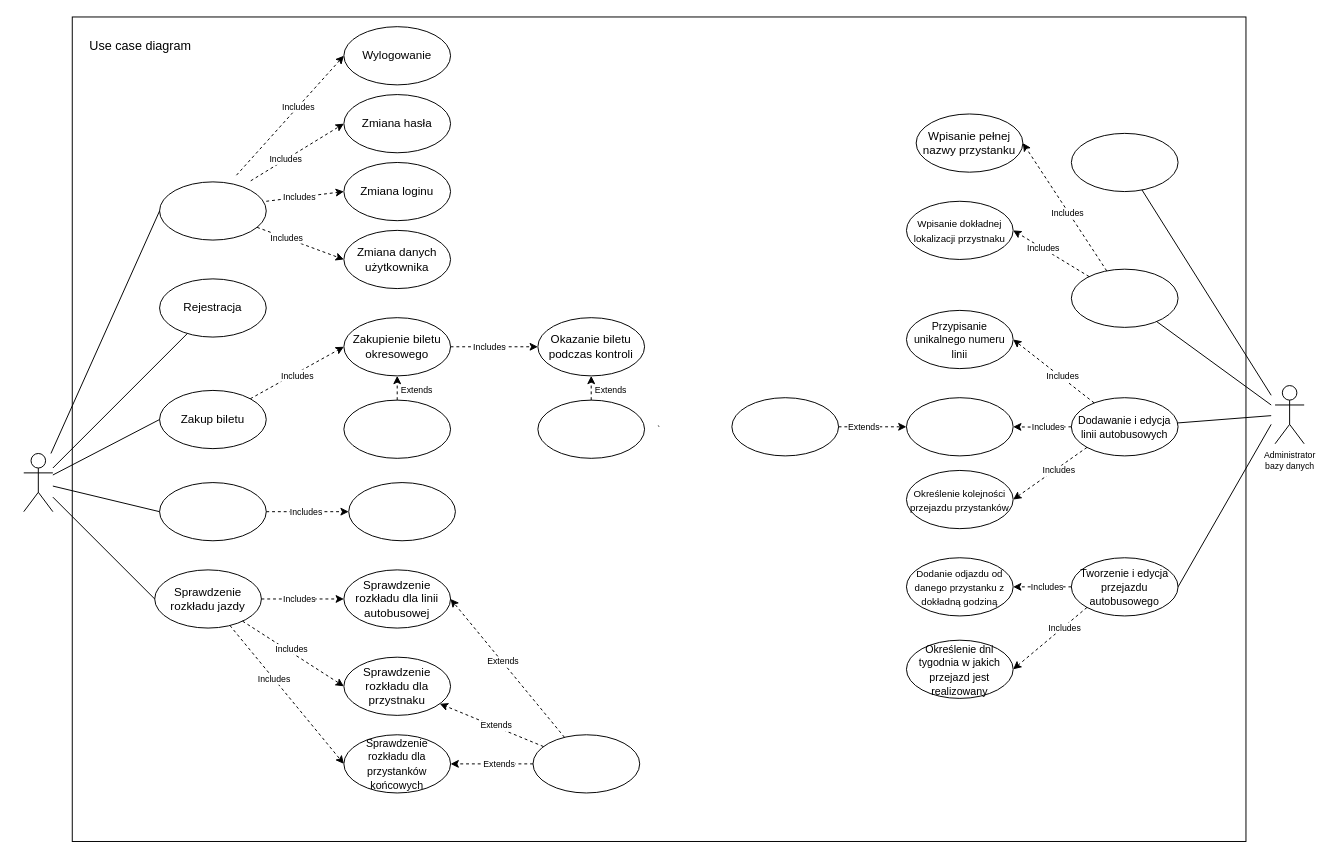
Image size: 1332x858. Some labels were removed from this diagram. The box of each missing label's shape, as (x1, y1, x2, y2) in pixels:
Dodawanie i edycja przystanków: (1070, 268, 1178, 327)
Dołączenie zniżki: (343, 399, 451, 458)
Kupno biletu: (532, 734, 640, 793)
Logowanie: (159, 181, 266, 240)
Określenie przystanków końcowych: (905, 397, 1013, 456)
Opłacenie mandatu: (348, 482, 455, 541)
Pasażer: (23, 453, 53, 512)
Sprawdzenie otrzymanych mandatów: (159, 482, 266, 541)
Sprawdzenie wcześniej kupionych biletów: (537, 399, 645, 458)
Stworzene dwukierunkowej definicji: (731, 397, 839, 456)
Zarządzanie cenami biletów: (1070, 132, 1178, 192)
